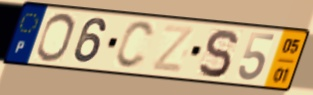5: (237, 31, 277, 82)
6: (72, 16, 108, 66)
C: (113, 19, 155, 71)
O: (34, 11, 77, 64)
S: (196, 27, 240, 79)
Z: (149, 23, 198, 75)
